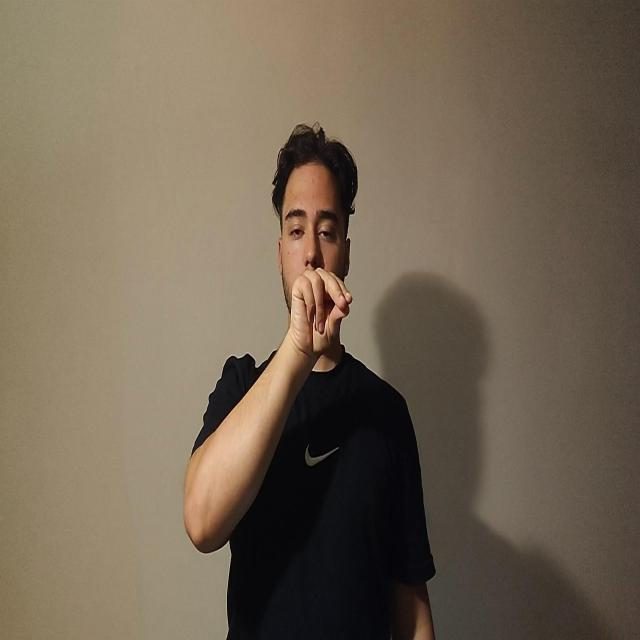no: (289, 266, 352, 357)
